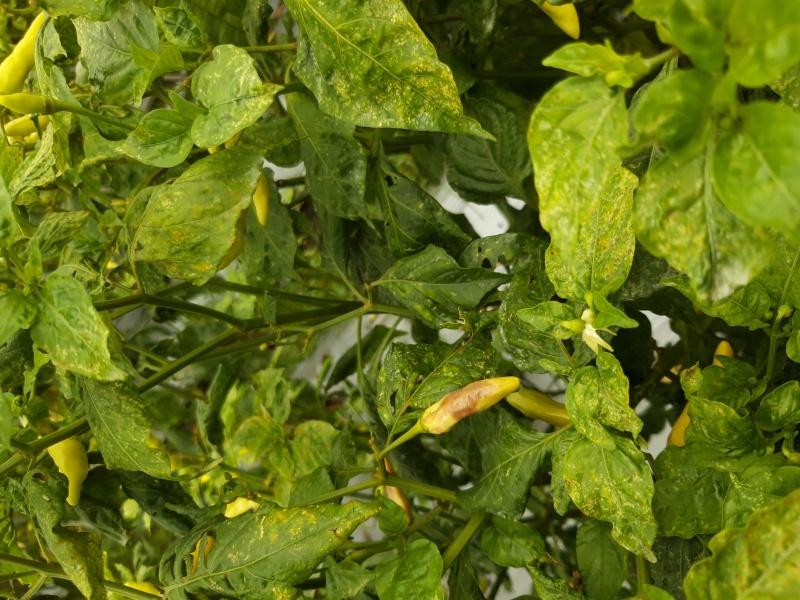cabai_normal: (1, 92, 53, 108)
lalat_buah: (419, 375, 520, 434)
